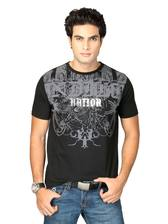clothoes: (31, 61, 141, 185)
watch: (26, 180, 48, 193)
